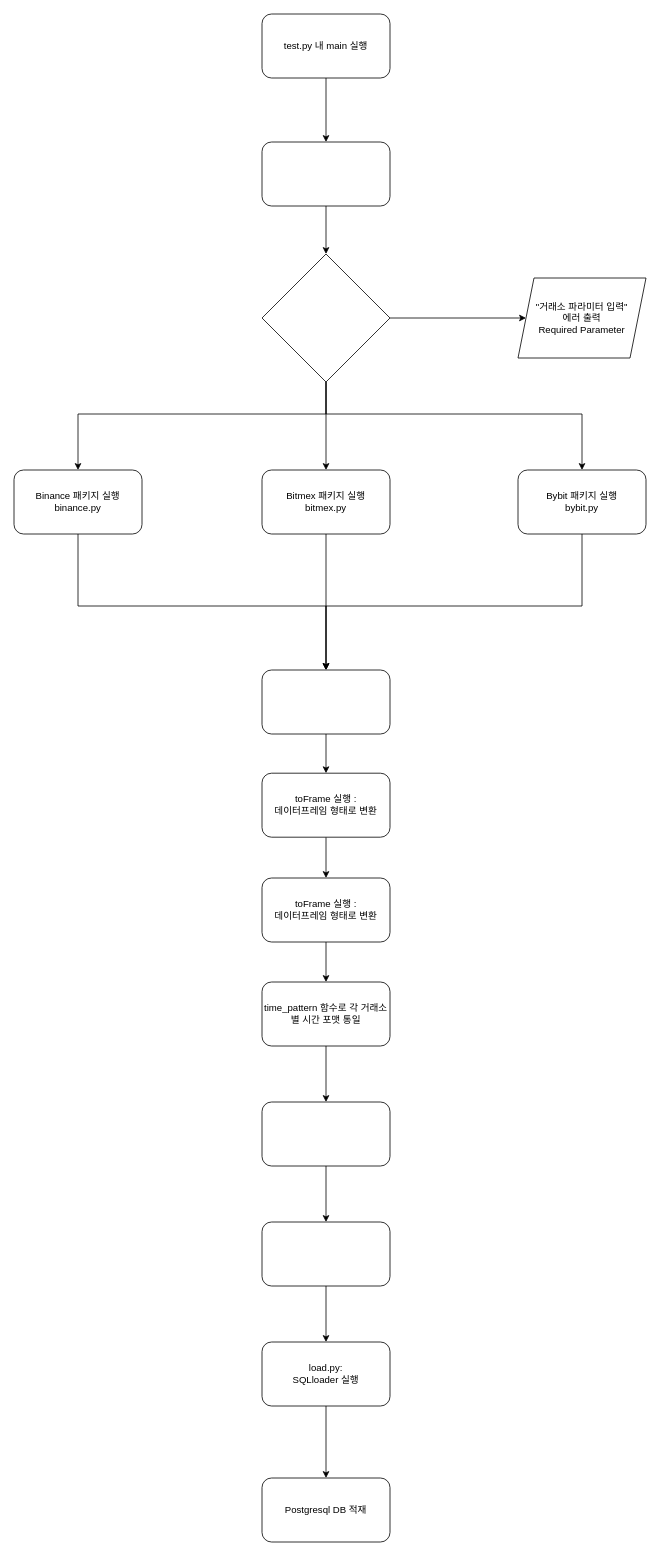
This 660x1556 diagram has some shape labels left out. Each missing label, with the box of its shape:
ELT 패키지 실행 transform.py: (261, 669, 390, 734)
Logger 세팅: (261, 141, 390, 206)
makerTaker : taker_buy / taker_sell 구분: (261, 1101, 390, 1166)
takerVol_cal: 시간대 (분 당) 별 합계 계산: (261, 1221, 390, 1286)
거래소 별 분류: (261, 253, 390, 382)
